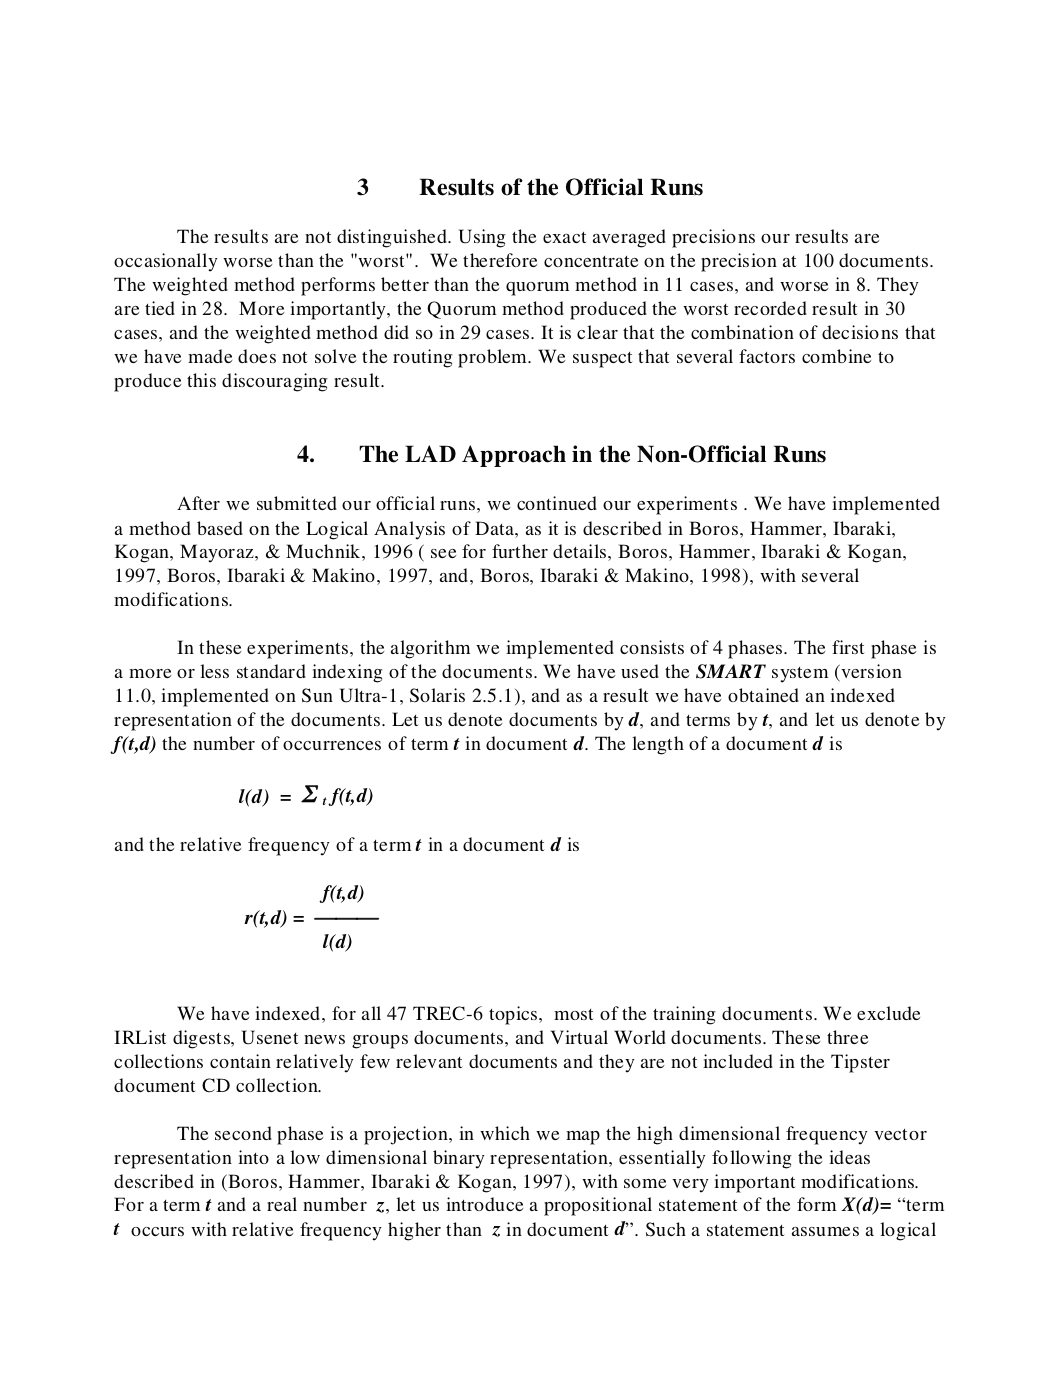formula: (244, 885, 379, 951), (239, 783, 372, 807)
